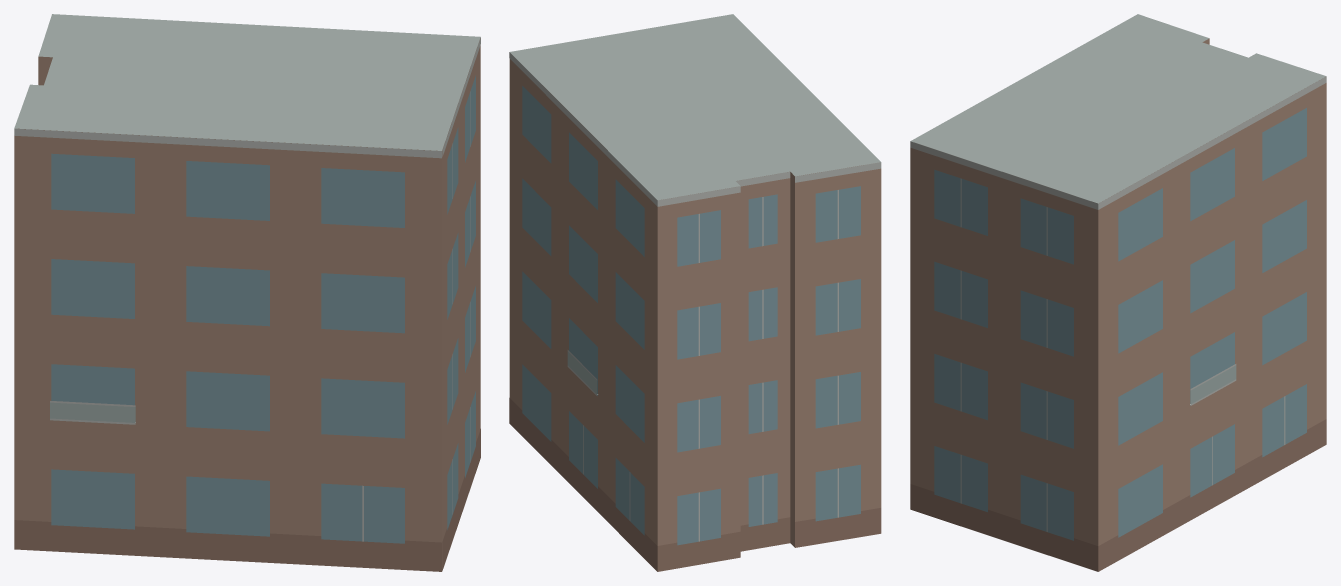
Rendered from survey-upis-32799616.glb.
3 views of the same model, side by side, from view 1: azimuth 30°, elevation 25°; view 2: azimuth 150°, elevation 25°; view 3: azimuth 270°, elevation 25° (orthographic). The views are drawn at different scales.
Parts seen in each view (by area): view 1: survey-upis-32799616.tmp; view 2: survey-upis-32799616.tmp; view 3: survey-upis-32799616.tmp.
Part boxes in pixels (box(x1,y1,x2,y2)): survey-upis-32799616.tmp: box(14, 14, 480, 571); survey-upis-32799616.tmp: box(509, 14, 881, 571); survey-upis-32799616.tmp: box(910, 14, 1326, 571).
Size of the model in its own units: 15.57 by 14.1 by 14.45.
